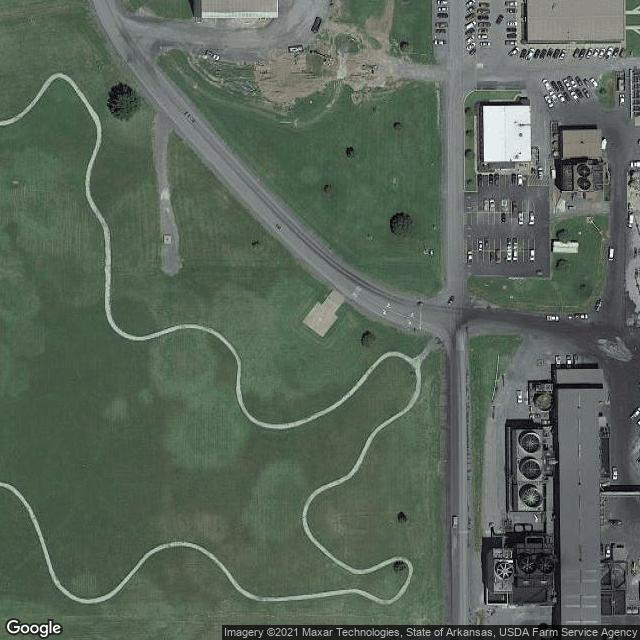Helipad: (305, 299, 336, 340)
